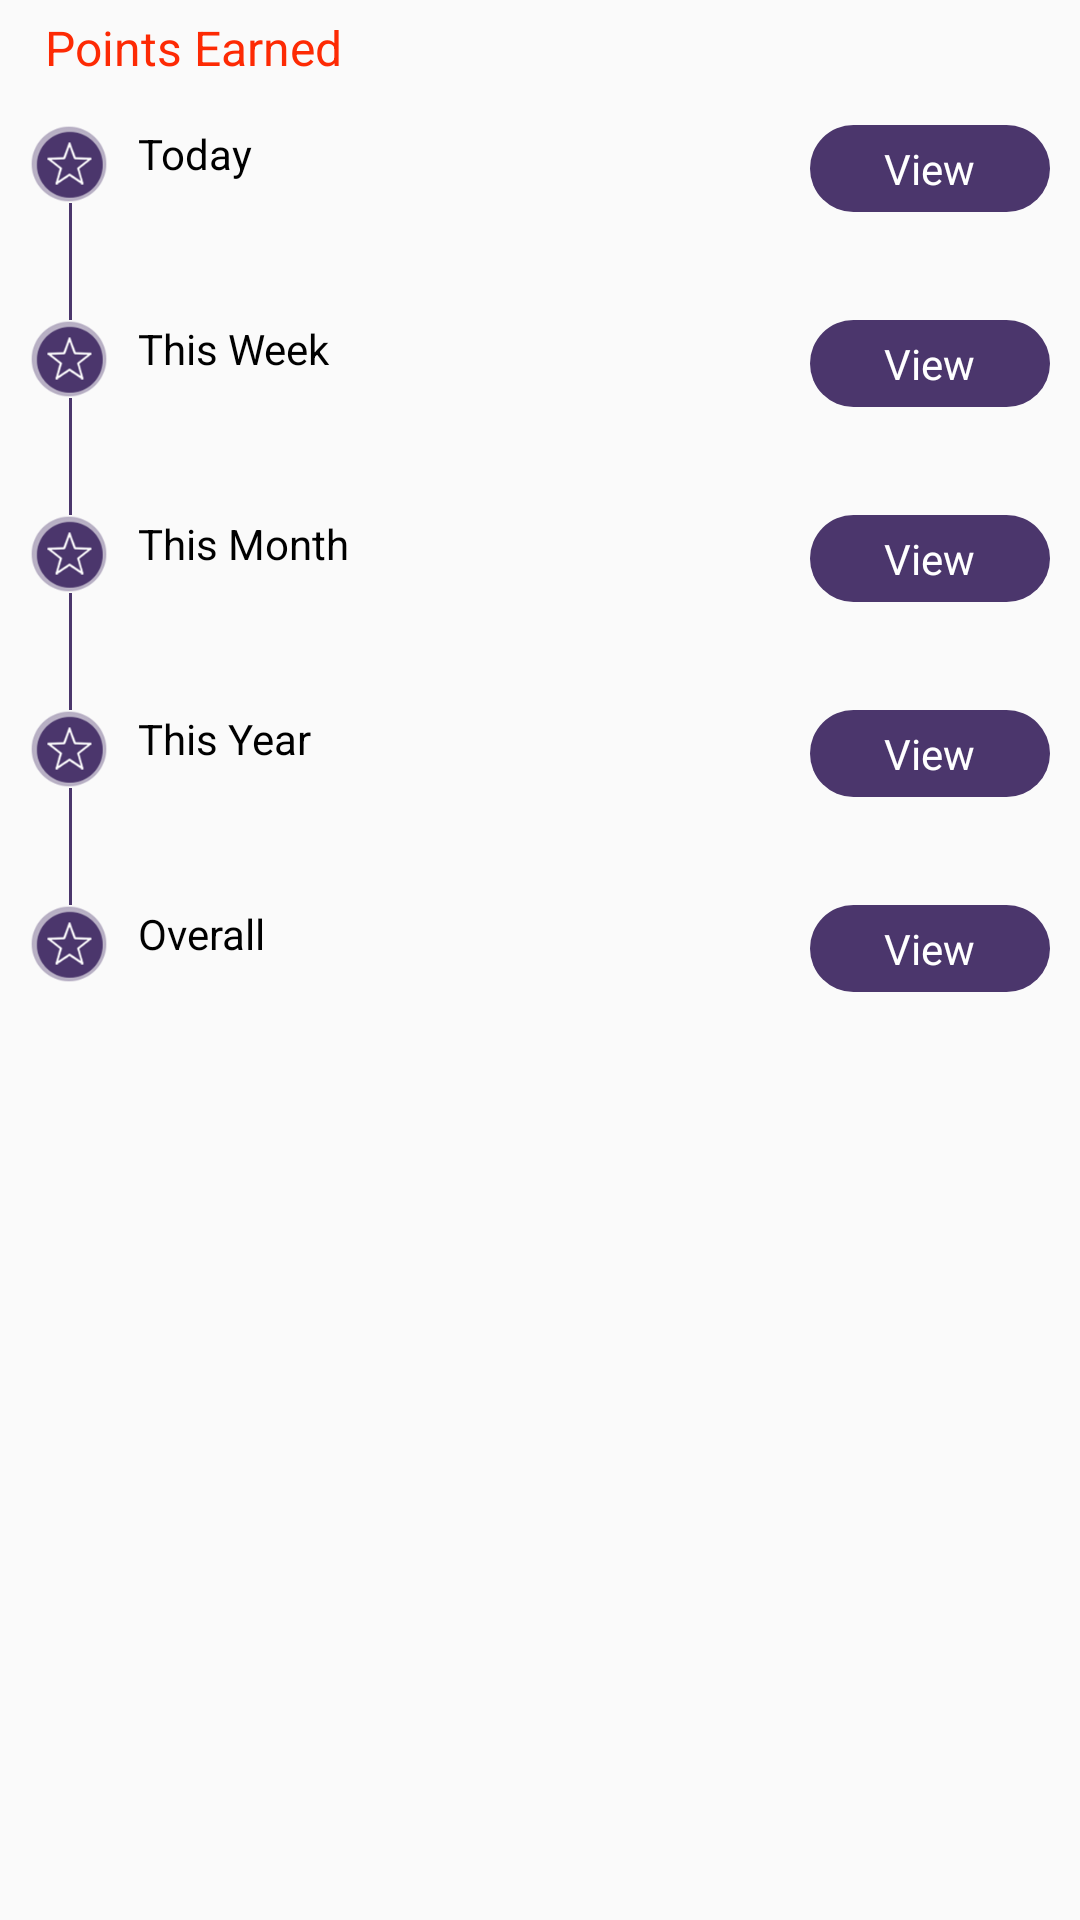

Icons on this 1080 × 1920 Android screen, each with its box as (x1, y1, x2, y2):
stared: (32, 126, 106, 201), (32, 322, 107, 397), (32, 516, 107, 591), (32, 712, 106, 787), (32, 906, 106, 981)
